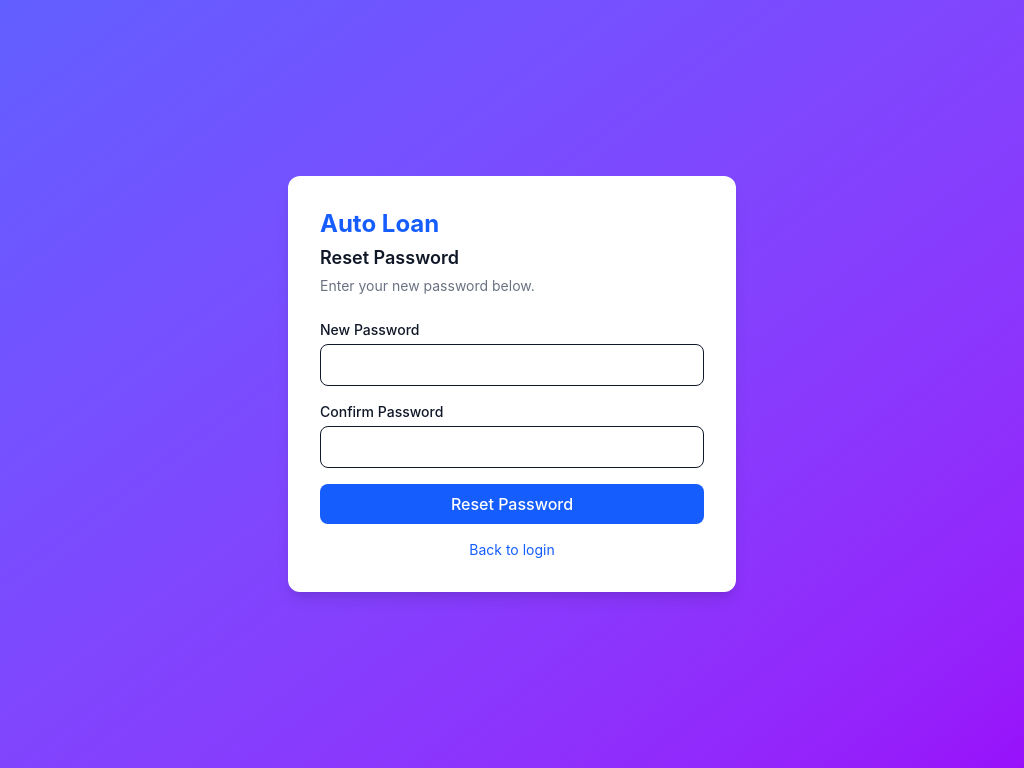
it: ResetPasswordPage › shows success message on success
The width and height of the screenshot is (1024, 768).
Type "newpass123" into the password field labelled "New Password" at (512, 365), box [320,344,704,386]
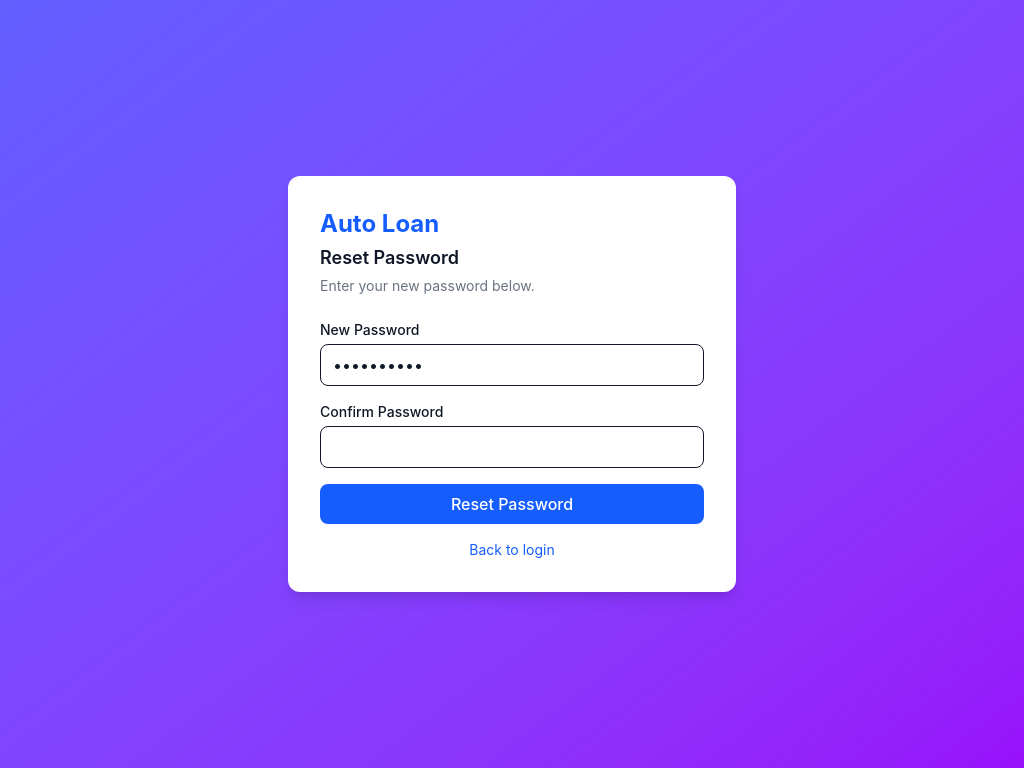
Type "newpass123" into the password field labelled "Confirm Password" at (512, 447), box [320,426,704,468]
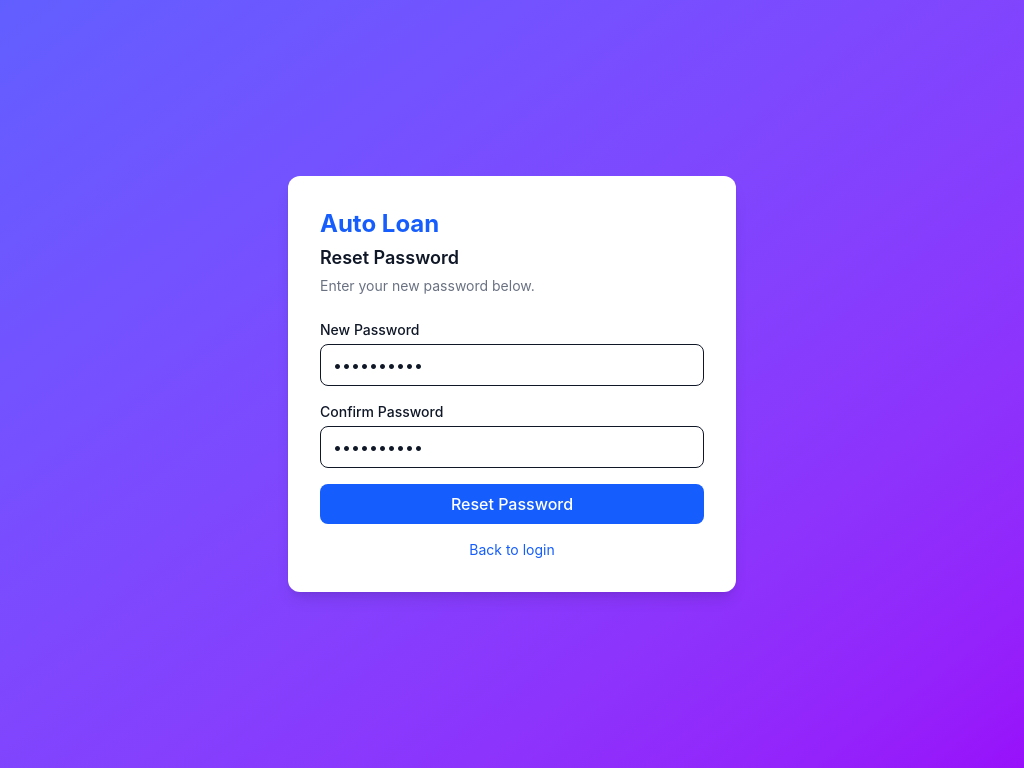
Click the button "Reset Password" at (512, 504), box [320,484,704,524]
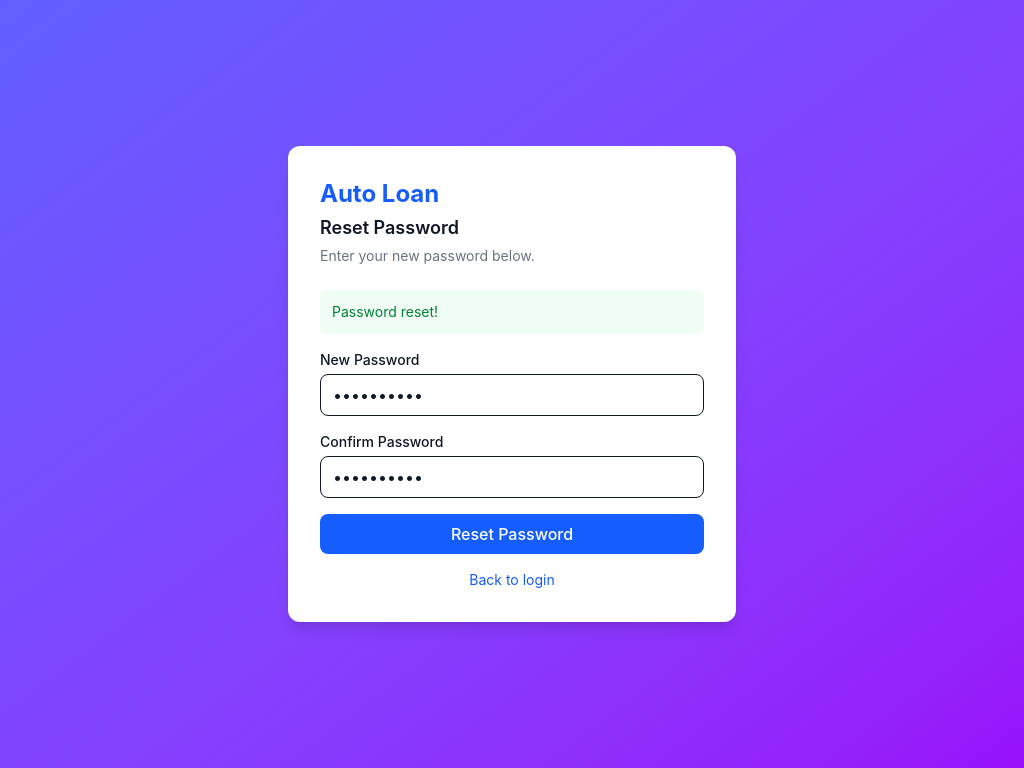
Now the message reads "Password reset!", box [332,303,438,320]
